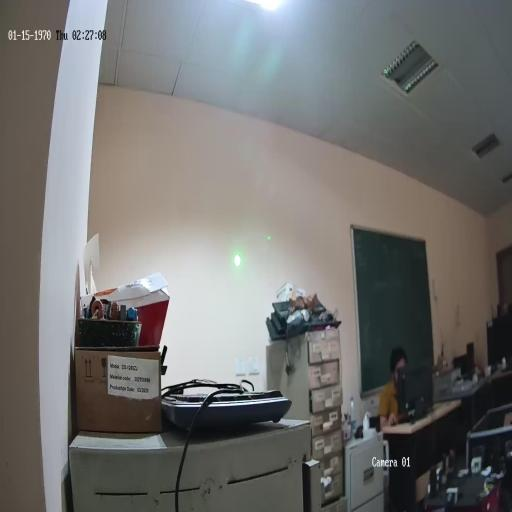laser: (233, 250, 242, 270)
